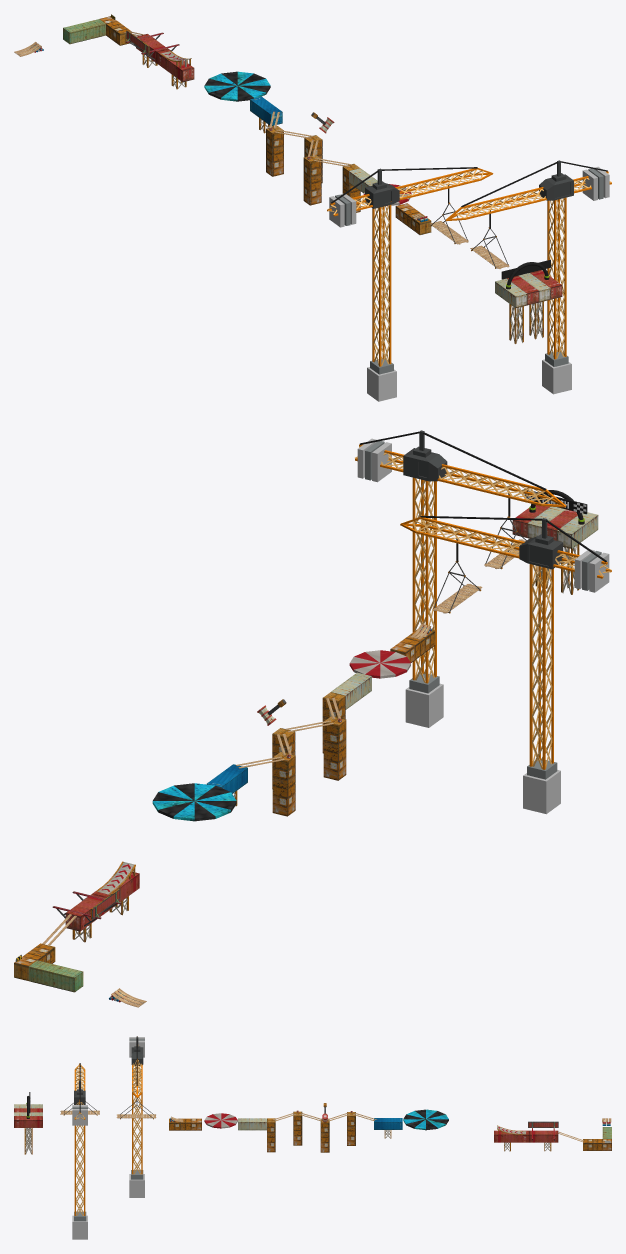
Rendered from 14_Parkour.fbx.
3 renders of one model, top to bottom at view 1: azimuth 30°, elevation 25°; view 2: azimuth 150°, elevation 25°; view 3: azimuth 270°, elevation 25°, orthographic. The views are drawn at different scales.
Parts seen in each view (by area): view 1: Crane, Crane__1_, TurningPlatform, stcontainerorange__3_, stcontainerorange__1_, stcontainergreentwo, stcontainerorange__5_, stcontainerred__5_, stcontainerwhite__2_, stcontainerblue, finishObject; view 2: Crane, Crane__1_, TurningPlatform, stcontainerorange__3_, stcontainerorange__1_, TurningPlatformFast, stcontainergreentwo, stcontainerwhite__2_, stcontainerwhite__1_, stcontainerorange__5_, stcontainerorange; view 3: Crane__1_, Crane, TurningPlatform, TurningPlatformFast, stcontainerorange__5_, stcontainerred__5_, stcontainerwhite__1_, stcontainerred__4_, stcontainerblue, stcontainerorange__3_, stcontainerred__7_, stcontainerorange (+3 smaller).
Boxes of the visible parts, x1,y1,x2,y2 form: Crane: (327,167,493,401); Crane__1_: (445,160,611,394); TurningPlatform: (204,71,270,101); stcontainerorange__3_: (303,155,321,205); stcontainerorange__1_: (266,126,283,176); stcontainergreentwo: (63,19,105,44); stcontainerorange__5_: (395,203,431,234); stcontainerred__5_: (156,49,194,82); stcontainerwhite__2_: (495,278,527,307); stcontainerblue: (250,96,282,125); finishObject: (501,260,550,289); Crane: (400,516,611,814); Crane__1_: (355,430,566,727); TurningPlatform: (152,783,236,821); stcontainerorange__3_: (323,716,346,780); stcontainerorange__1_: (272,751,295,816); TurningPlatformFast: (349,650,410,678); stcontainergreentwo: (28,960,83,992); stcontainerwhite__2_: (557,512,598,548); stcontainerwhite__1_: (331,672,371,709); stcontainerorange__5_: (390,629,435,662); stcontainerorange: (14,943,55,980); Crane__1_: (72,1063,87,1239); Crane: (129,1036,144,1197); TurningPlatform: (403,1109,448,1130); TurningPlatformFast: (204,1113,237,1128); stcontainerorange__5_: (169,1118,201,1130); stcontainerred__5_: (494,1130,529,1142); stcontainerwhite__1_: (238,1118,266,1130); stcontainerred__4_: (529,1130,558,1142); stcontainerblue: (374,1118,402,1129); stcontainerorange__3_: (293,1111,302,1145); stcontainerred__7_: (14,1116,42,1127); stcontainerorange: (583,1139,611,1150).
Size of the model in its own units: 10913 by 10173 by 34469.
